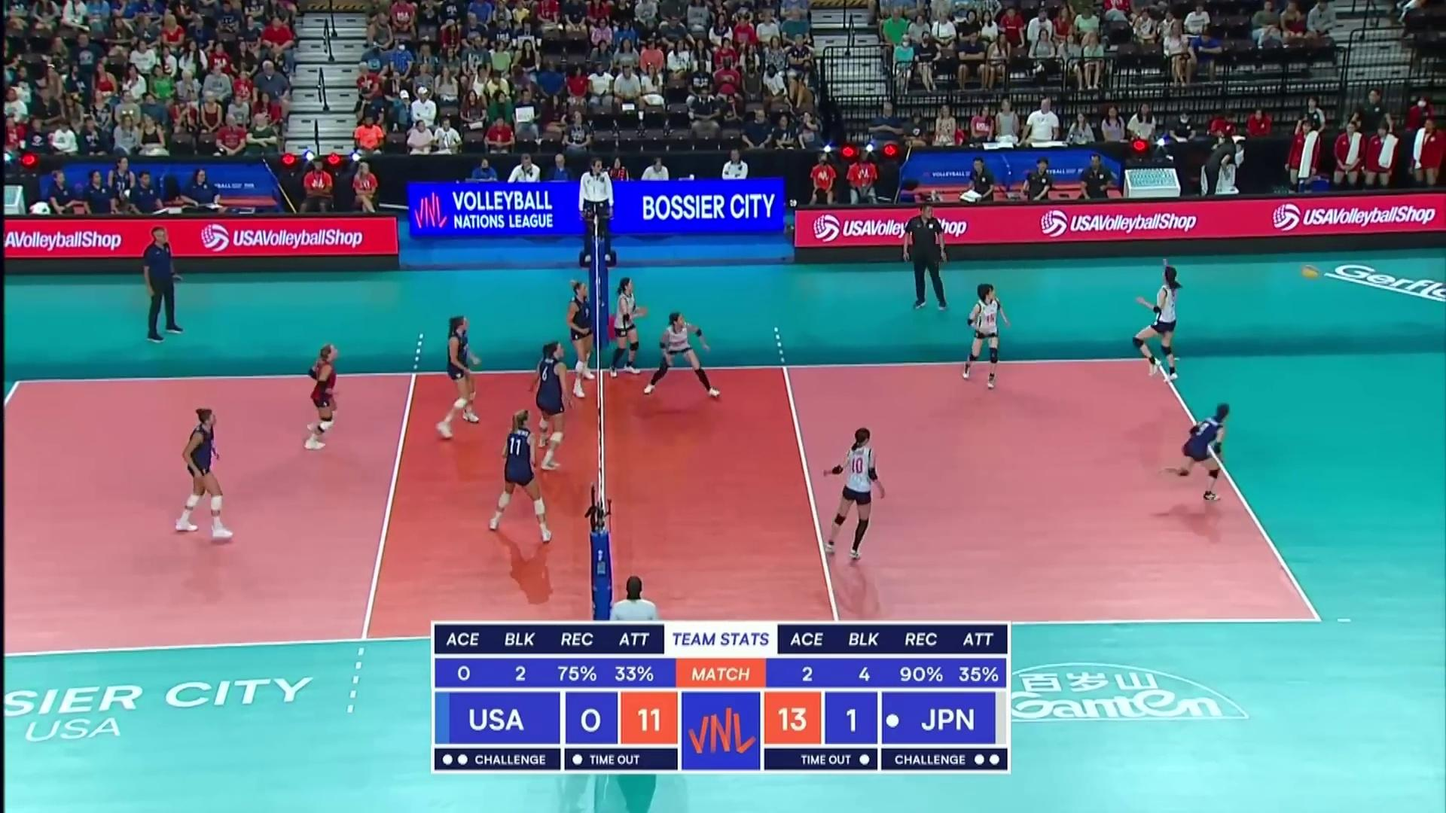player: (821, 430, 889, 559), (492, 409, 552, 546), (173, 409, 232, 540), (638, 312, 718, 400), (1164, 403, 1230, 504), (436, 313, 487, 436), (1134, 264, 1180, 384), (959, 284, 1010, 388), (531, 340, 569, 475), (300, 343, 347, 451), (565, 277, 597, 396), (611, 275, 643, 377)
refree: (608, 575, 661, 729), (578, 157, 615, 262)
